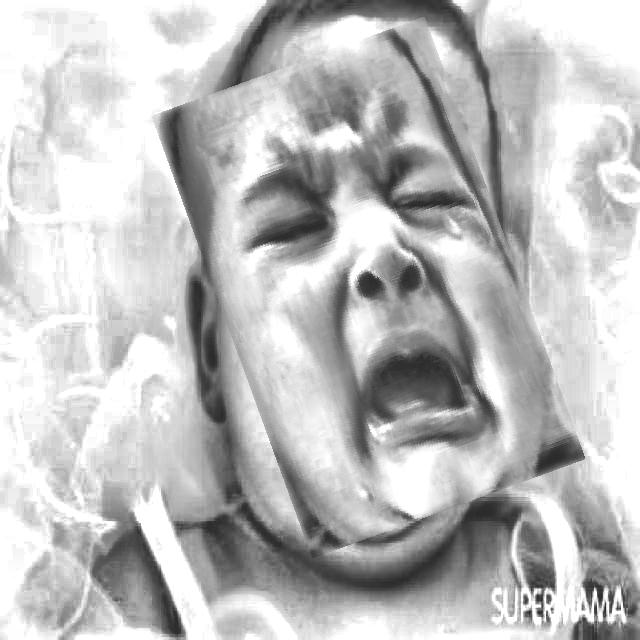sad: (187, 34, 550, 541)
